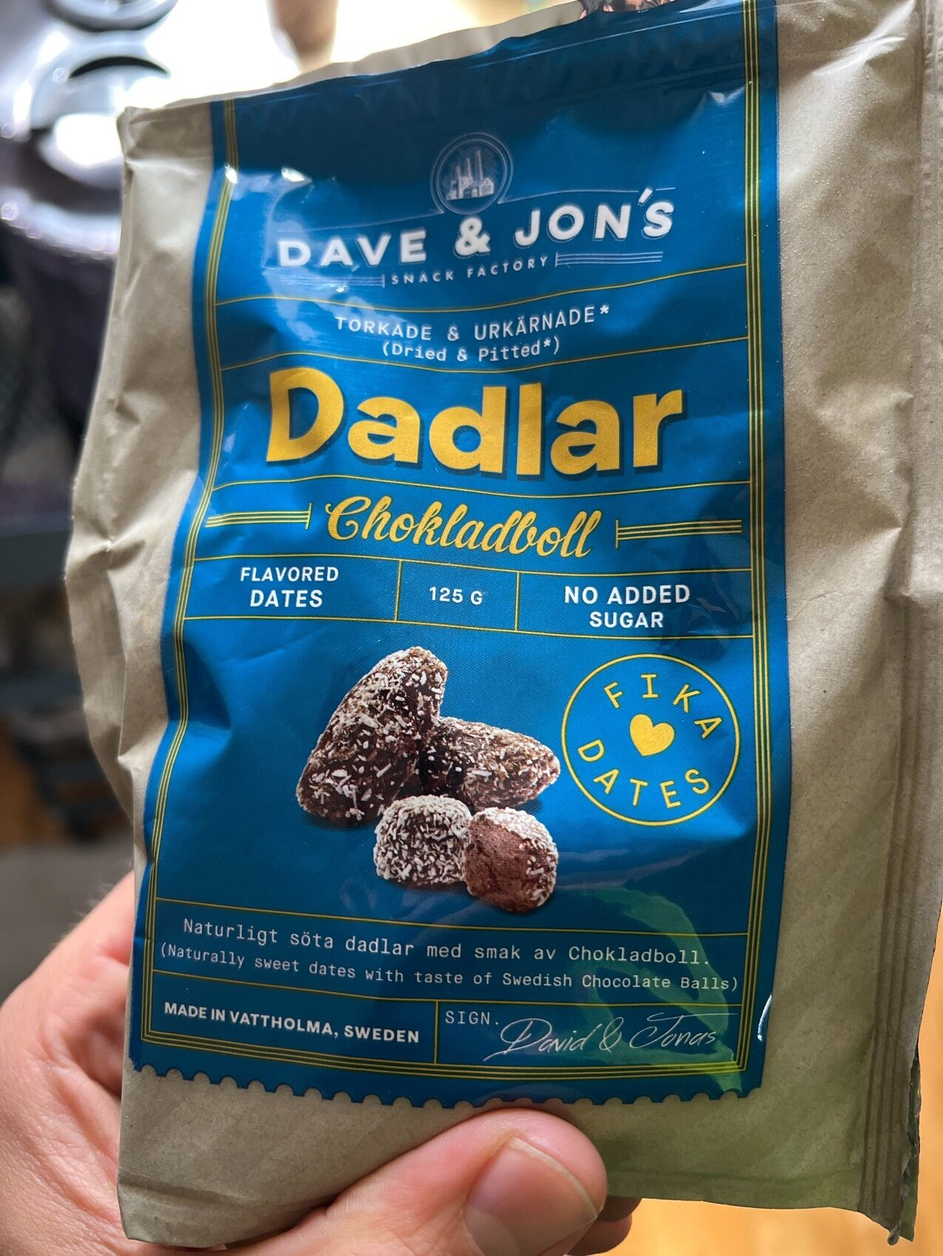Chokladboll Dadlar: (47, 63, 896, 1193)
